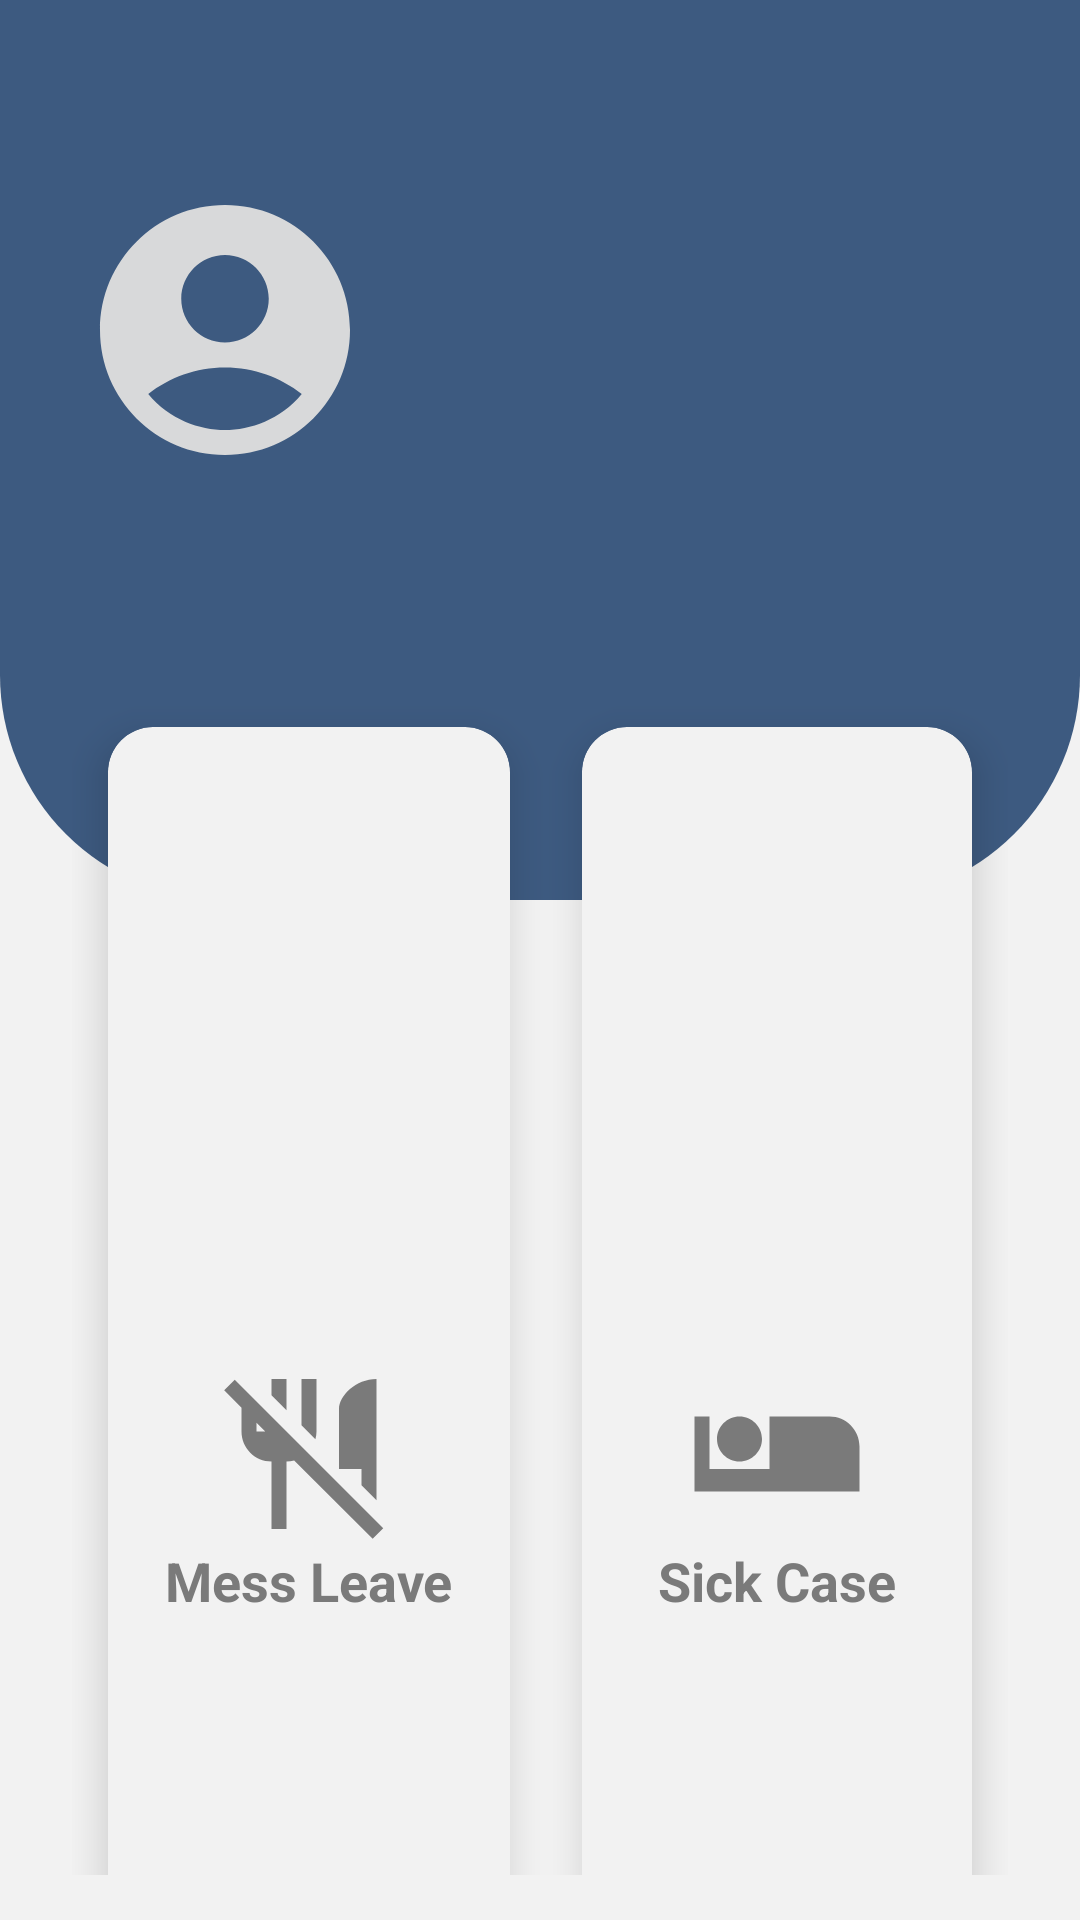

Screen size 1080×1920. Icon name, then its box in pixels as [left=x1, top=y1, right=x2, bottom=y2]:
account: [left=100, top=205, right=350, bottom=455]
no meals: [left=224, top=1379, right=383, bottom=1539]
